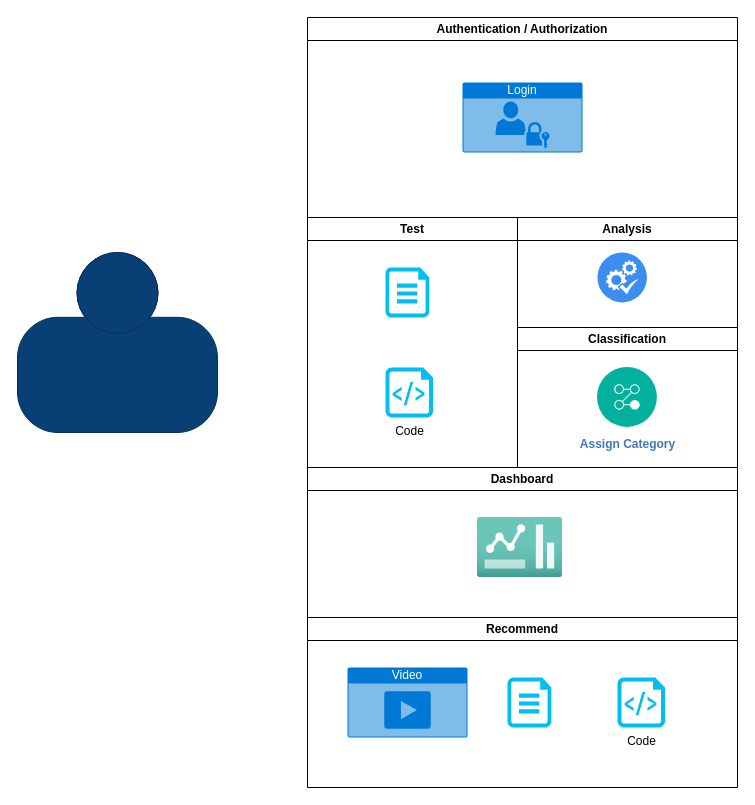
Some shapes in this 755 by 805 pixel diagram are drawn without their labels. The shapes that lost their labels are listed below. From the top down, each one's centre as x and y in pixels, then its label:
At [407,292]: "Concepts".
At [621,277]: "Rate".
At [117,342]: "User [Person] Student".
At [519,547]: "tracking".
At [529,702]: "Documentation".
